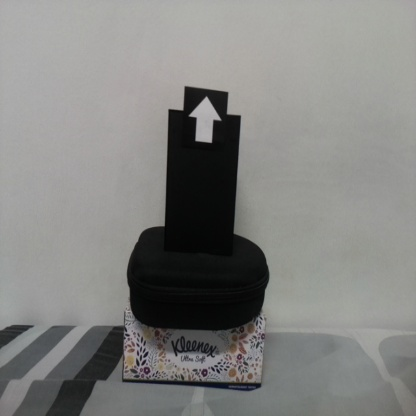id_1: (184, 87, 227, 156)
